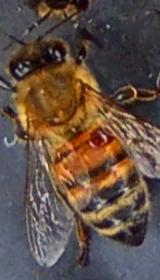varroa_mite: (82, 116, 120, 154)
